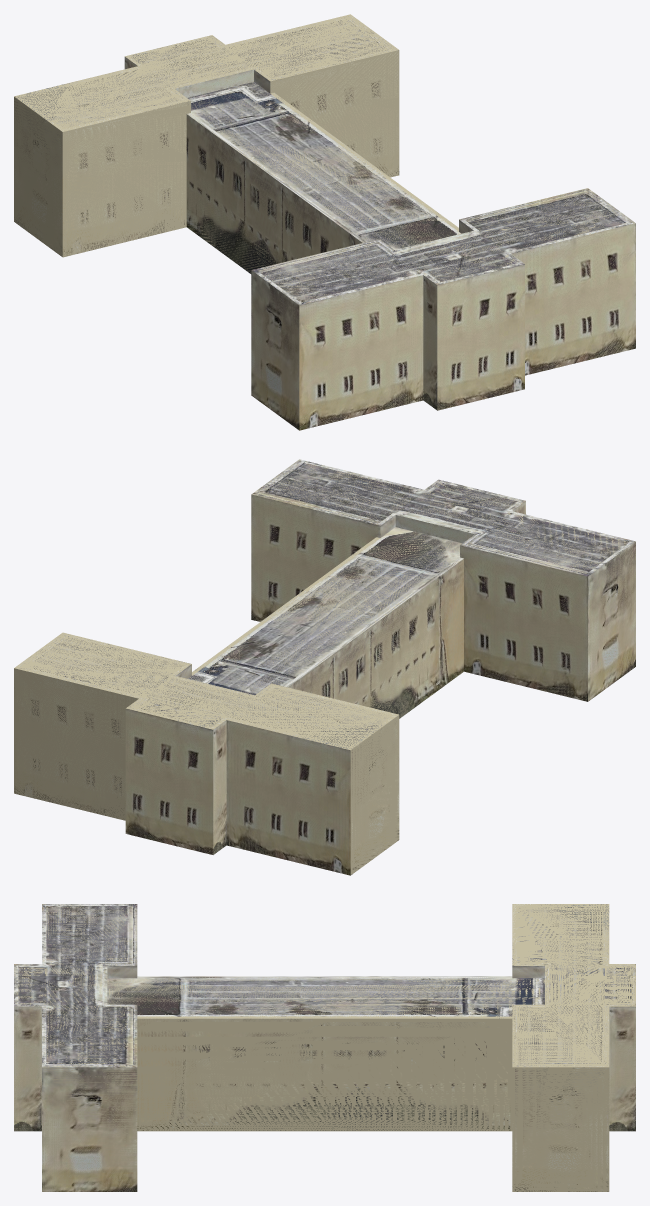
File: Techni_bldg1.dae
The picture shows the model from 3 angles, top to bottom: view 1: azimuth 30°, elevation 25°; view 2: azimuth 150°, elevation 25°; view 3: azimuth 270°, elevation 25°; orthographic projection.
Visible parts, largest first — view 1: group_0 (×17); view 2: group_0 (×17); view 3: group_0 (×13).
Boxes of the visible parts, box(x1,y1,x2,y2) form: group_0 (×17): box(14, 14, 635, 430); group_0 (×17): box(14, 459, 635, 875); group_0 (×13): box(14, 904, 635, 1191).
Bounding box in the file's own units: 990 × 1594 × 352.
Materials: 14 (13 with a texture image).
